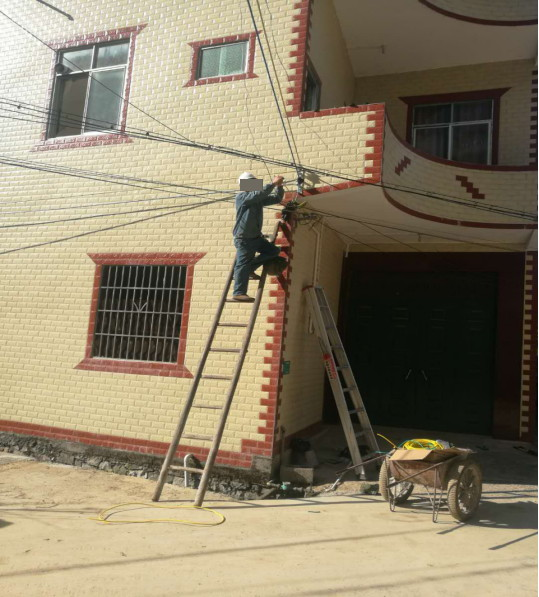downsuit: (234, 242, 282, 297)
halt: (238, 173, 260, 192)
hand: (271, 174, 285, 187)
person: (231, 171, 289, 302)
upsuit: (234, 189, 278, 241)
